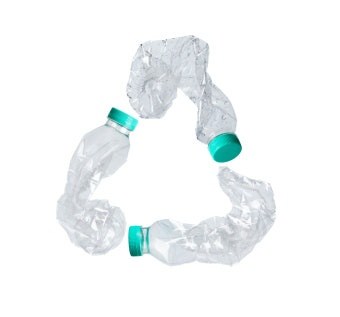plastic: (56, 104, 139, 253)
